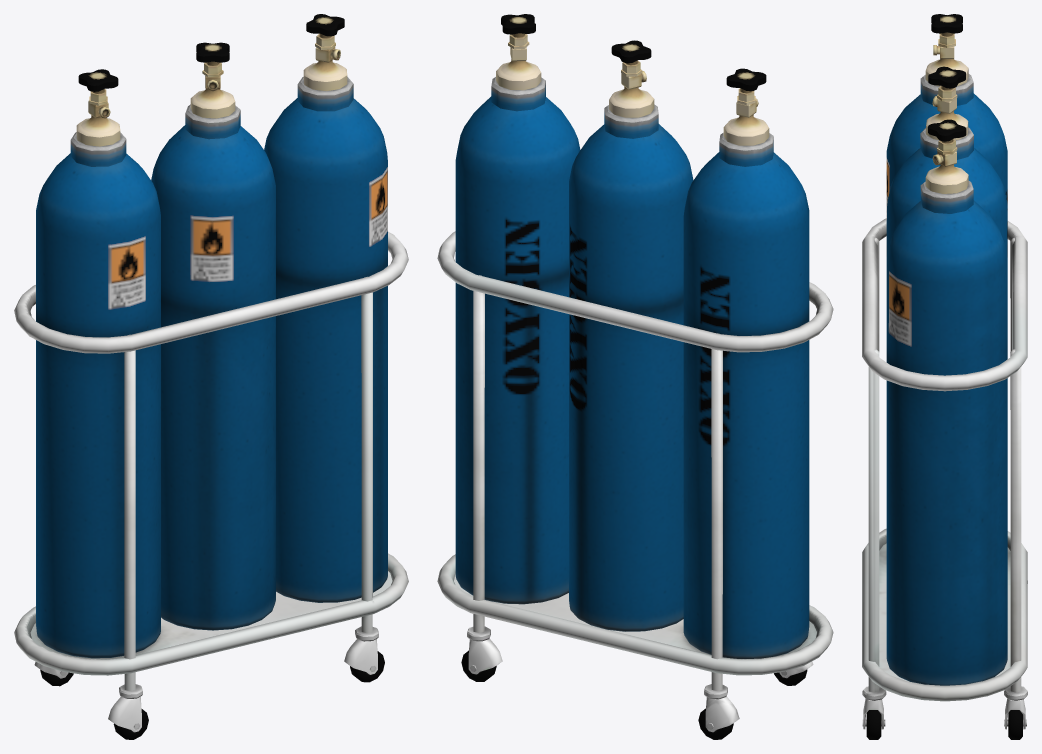
Rendered from HospitalOxygen.FBX.
3 renders of one model, left to right at view 1: azimuth 30°, elevation 25°; view 2: azimuth 150°, elevation 25°; view 3: azimuth 270°, elevation 25°, orthographic. The views are drawn at different scales.
Visible parts, largest first — view 1: GasCylinder, GasCylinder002, GasCylinder003, MedicalTrolley, MedicalTrolley_wheel4, MedicalTrolley_wheel3; view 2: GasCylinder, GasCylinder002, GasCylinder003, MedicalTrolley, MedicalTrolley_wheel2, MedicalTrolley_wheel1; view 3: GasCylinder003, MedicalTrolley, GasCylinder, GasCylinder002, MedicalTrolley_wheel4, MedicalTrolley_wheel1.
Part boxes in pixels (left/top/right/bottom): GasCylinder: left=36, top=69, right=160, bottom=658; GasCylinder002: left=151, top=42, right=275, bottom=630; GasCylinder003: left=264, top=14, right=387, bottom=602; MedicalTrolley: left=14, top=231, right=408, bottom=698; MedicalTrolley_wheel4: left=344, top=639, right=384, bottom=682; MedicalTrolley_wheel3: left=108, top=696, right=148, bottom=739; GasCylinder: left=683, top=68, right=809, bottom=658; GasCylinder002: left=569, top=40, right=693, bottom=631; GasCylinder003: left=455, top=14, right=580, bottom=604; MedicalTrolley: left=437, top=231, right=833, bottom=699; MedicalTrolley_wheel2: left=698, top=696, right=739, bottom=739; MedicalTrolley_wheel1: left=461, top=638, right=502, bottom=681; GasCylinder003: left=886, top=119, right=1007, bottom=685; MedicalTrolley: left=862, top=218, right=1027, bottom=701; GasCylinder: left=886, top=14, right=1007, bottom=257; GasCylinder002: left=887, top=66, right=1007, bottom=255; MedicalTrolley_wheel4: left=862, top=699, right=885, bottom=739; MedicalTrolley_wheel1: left=1004, top=699, right=1026, bottom=739.
Bounding box in the file's own units: 71.25 × 116 × 28.59.
